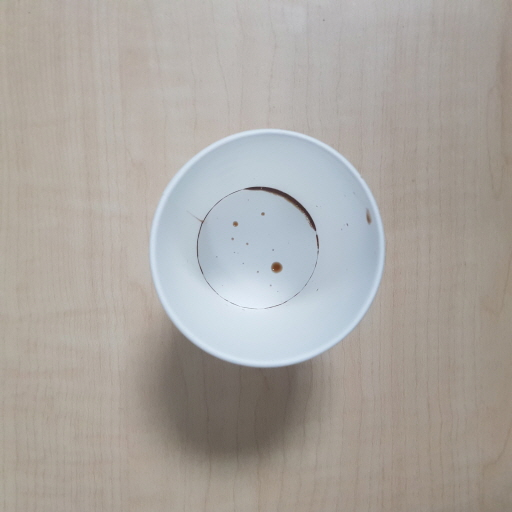Paper_1: (140, 127, 388, 369)
